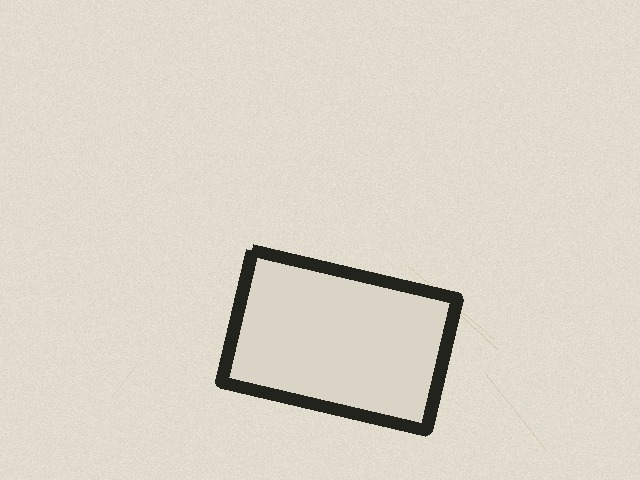parking_area: (221, 250, 457, 430)
